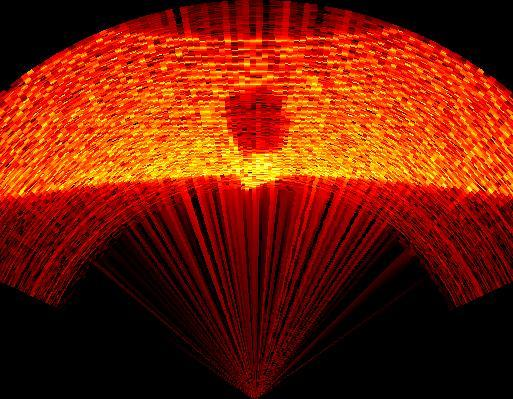box_crate: (223, 84, 288, 154)
